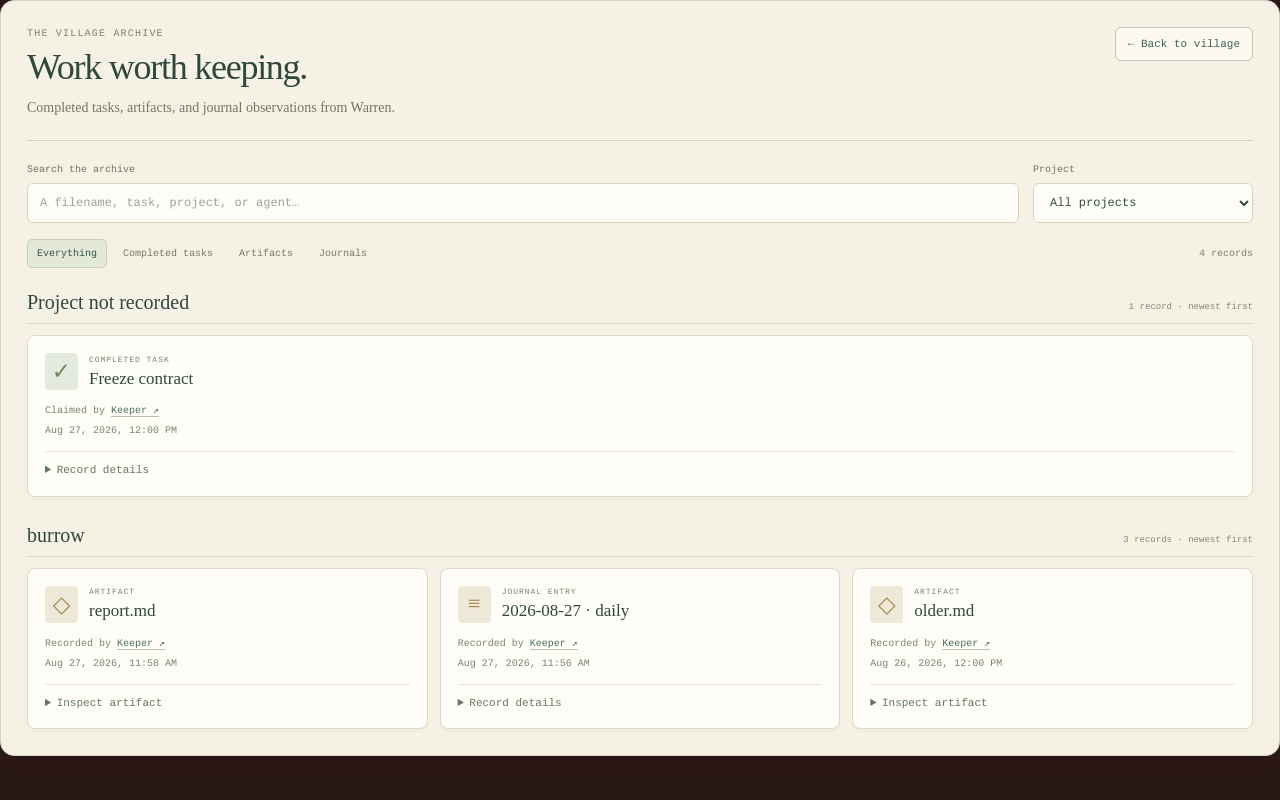
village archive › shows real completed tasks and keeps artifacts separate where no task link exists
Expected: the element "Freeze contract" shows "Keeper", [111, 403, 159, 418]
Expected: the element "Freeze contract" does not show "report.md", [27, 335, 1253, 497]
Step 1. Click the heading "Record details" below "Aug 27, 2026, 12:00 PM" → (103, 470), box [57, 464, 149, 476]
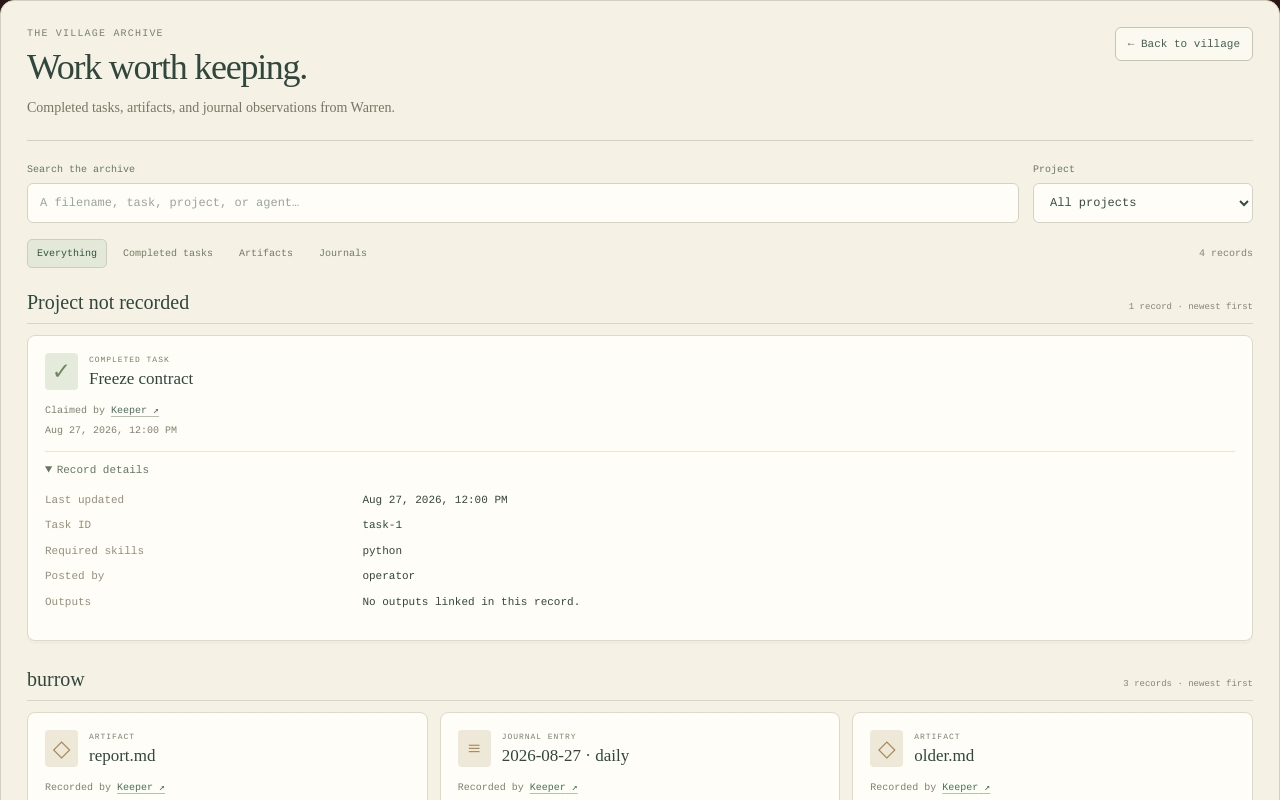
Now the element "Freeze contract" shows "No outputs linked in this record.", box [362, 596, 580, 608]
